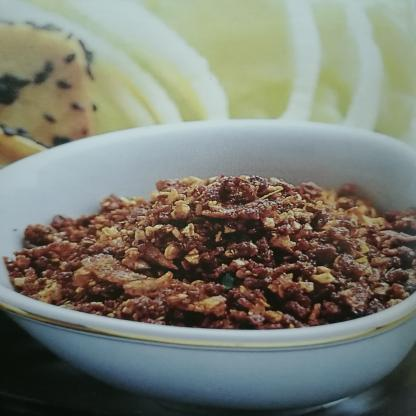Namprig: (1, 139, 400, 376)
